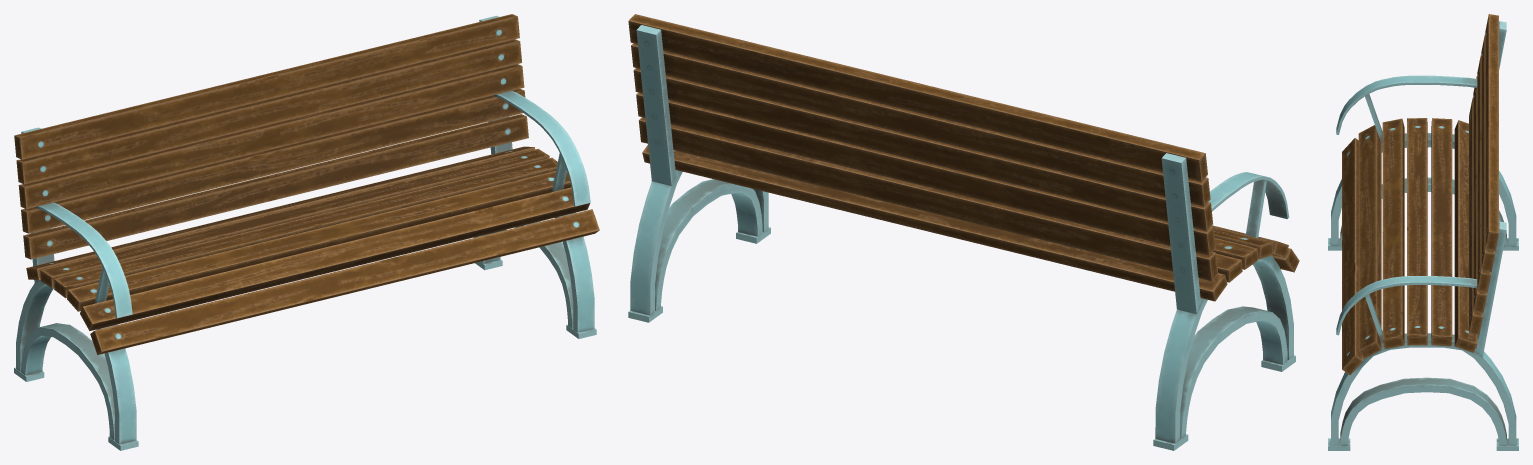
File: classic_bench.gltf
3 renders of one model, left to right at view 1: azimuth 30°, elevation 25°; view 2: azimuth 150°, elevation 25°; view 3: azimuth 270°, elevation 25°, orthographic. The views are drawn at different scales.
Parts seen in each view (by area): view 1: Seat 1, Seat 2, Seat 3, Seat 11, Seat 10, Seat 5, Seat 4, Seat 9, Seat 8, Seat 7, Legs 1, Handles 1 (+3 smaller); view 2: Seat 1, Seat 5, Seat 2, Seat 3, Seat 4, Seat 6, Legs 1, Legs 5, Legs 2, Handles 1, Handles 2, Seat 8 (+1 smaller); view 3: Seat 9, Seat 10, Seat 7, Seat 8, Legs 1, Seat 11, Seat 6, Legs 2, Seat 1, Handles 1, Legs 5, Seat 3 (+6 smaller).
Part boxes in pixels (<box>): Seat 1: <box>14,14,519,159</box>; Seat 2: <box>16,39,521,184</box>; Seat 3: <box>18,64,524,208</box>; Seat 11: <box>90,209,599,354</box>; Seat 10: <box>80,187,590,330</box>; Seat 5: <box>23,114,528,259</box>; Seat 4: <box>21,89,525,233</box>; Seat 9: <box>67,171,571,311</box>; Seat 8: <box>54,157,557,298</box>; Seat 7: <box>40,148,549,287</box>; Legs 1: <box>16,212,594,444</box>; Handles 1: <box>35,91,590,318</box>; Seat 1: <box>628,14,1207,181</box>; Seat 5: <box>638,117,1218,281</box>; Seat 2: <box>631,43,1210,206</box>; Seat 3: <box>633,68,1213,230</box>; Seat 4: <box>636,92,1215,255</box>; Seat 6: <box>642,145,1227,301</box>; Legs 1: <box>630,170,1293,443</box>; Legs 5: <box>636,25,1200,313</box>; Legs 2: <box>655,179,1287,439</box>; Handles 1: <box>668,100,1289,229</box>; Handles 2: <box>1245,179,1266,238</box>; Seat 8: <box>1213,238,1257,269</box>; Seat 9: <box>1382,118,1404,349</box>; Seat 10: <box>1358,125,1381,358</box>; Seat 7: <box>1431,118,1452,346</box>; Seat 8: <box>1407,118,1427,345</box>; Legs 1: <box>1331,133,1516,445</box>; Seat 11: <box>1342,138,1362,375</box>; Seat 6: <box>1454,120,1477,352</box>; Legs 2: <box>1340,177,1506,445</box>; Seat 1: <box>1485,14,1498,251</box>; Handles 1: <box>1336,75,1477,335</box>; Legs 5: <box>1475,21,1506,357</box>; Seat 3: <box>1477,55,1490,292</box>.
Size of the model in its own units: 2 by 0.9602 by 0.7403.
1 material, 1 textured.
